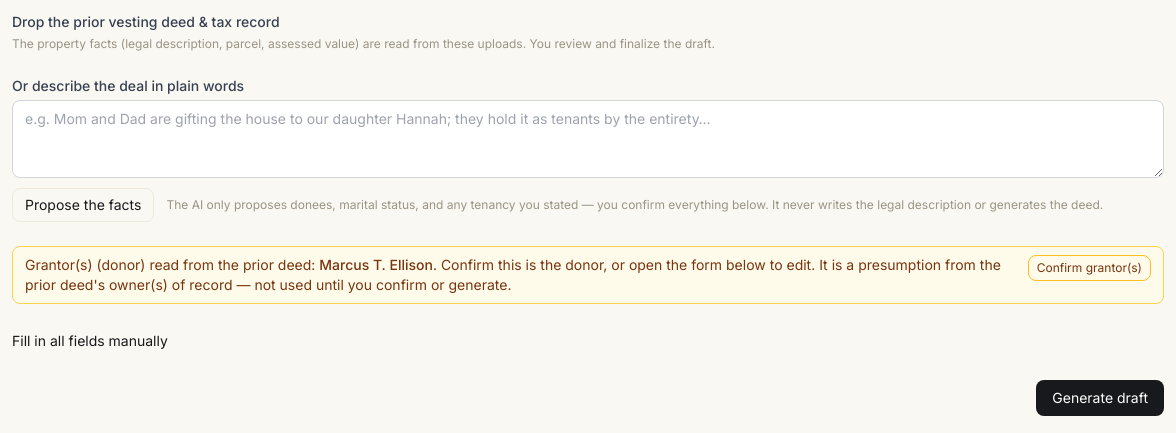
Scenario: DeedIntake — DEED-INTAKE-REDESIGN-1 + DEED-EXPRESS-1 › DEED-EXPRESS-1: the "Confirm grantor(s)" button clears the banner + amber highlight
The width and height of the screenshot is (1176, 433).
Expected: the element with test id "deed-intake-grantor-confirm" is shown, [12, 246, 1164, 304]
Click the button with test id "deed-intake-grantor-confirm-ok". click: (1089, 268)
box: [1028, 255, 1151, 281]
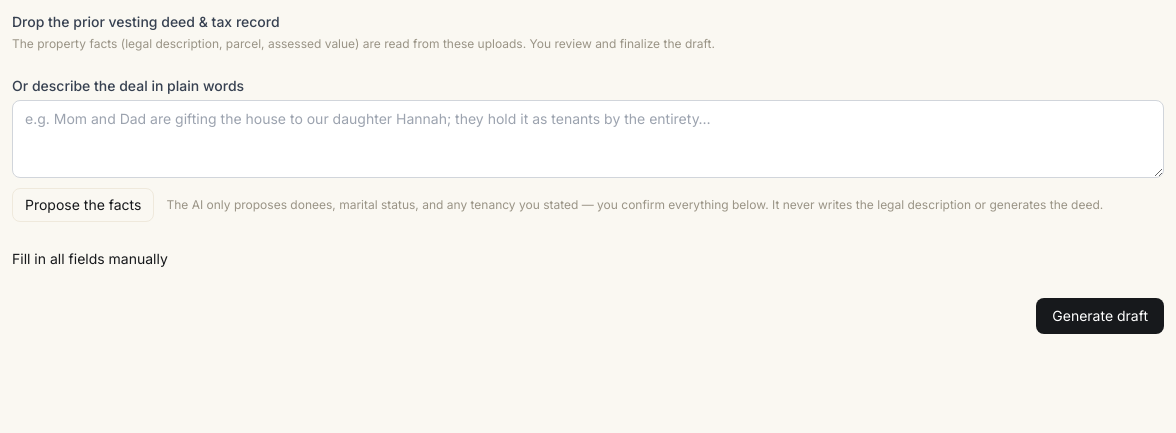
Now the element with test id "deed-intake-grantor-confirm" is gone
